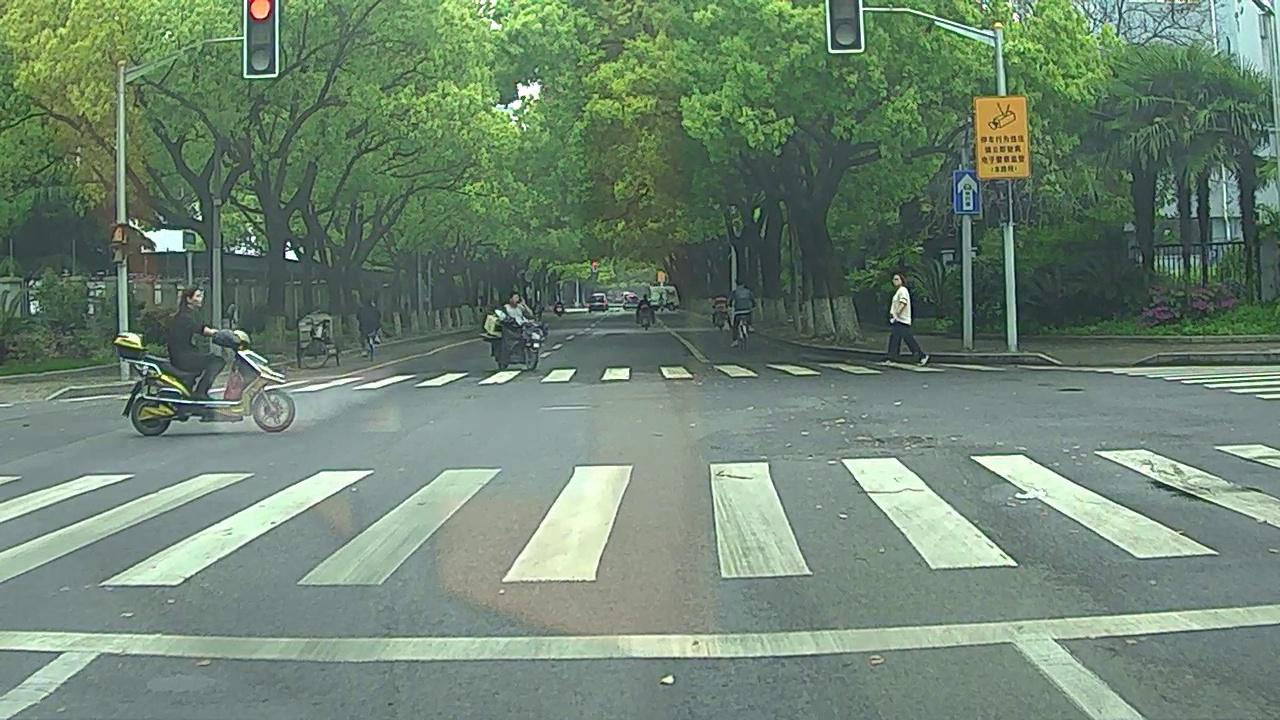traffic_light: (247, 1, 275, 70), (831, 1, 863, 46)
